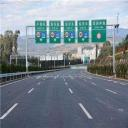speed_limit_100: (64, 30, 70, 40), (50, 31, 54, 39)
speed_limit_120: (35, 30, 41, 38)
speed_limit_80: (78, 31, 83, 38)
